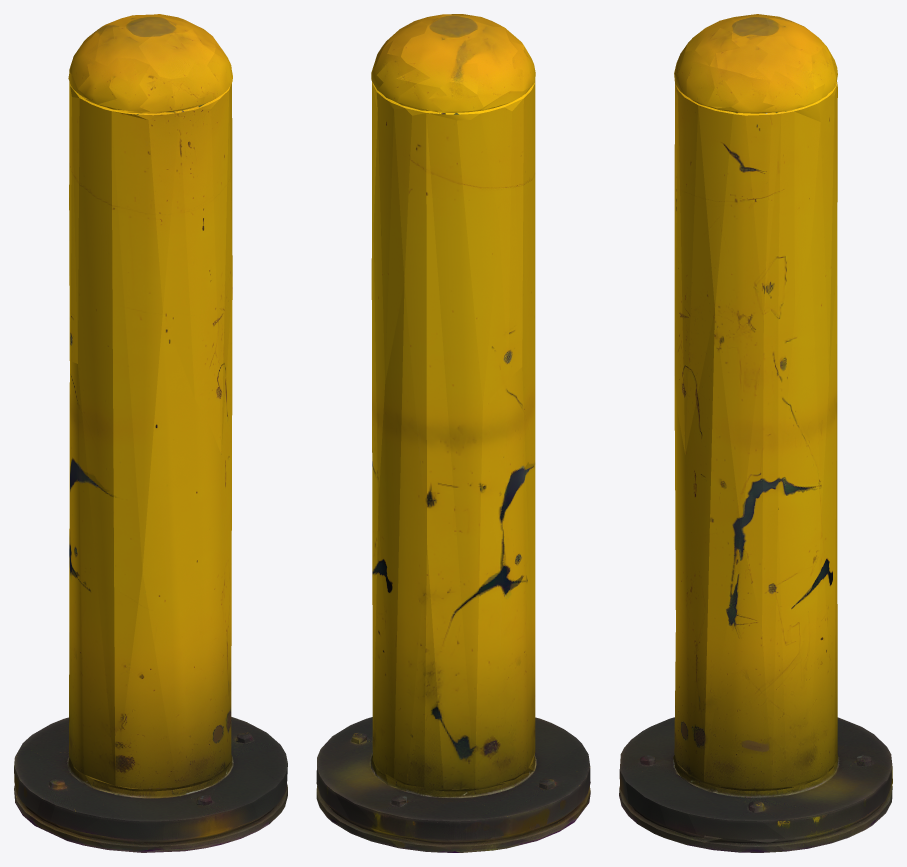
File: bollard_pbr.glb
3 renders of one model, left to right at view 1: azimuth 30°, elevation 25°; view 2: azimuth 150°, elevation 25°; view 3: azimuth 270°, elevation 25°, orthographic.
Bounding box in the file's own units: 0.6123 × 1.9 × 0.6123.
Materials: 1 (1 with a texture image).
